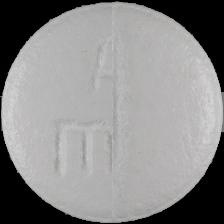0186-1092: (0, 0, 224, 224)
